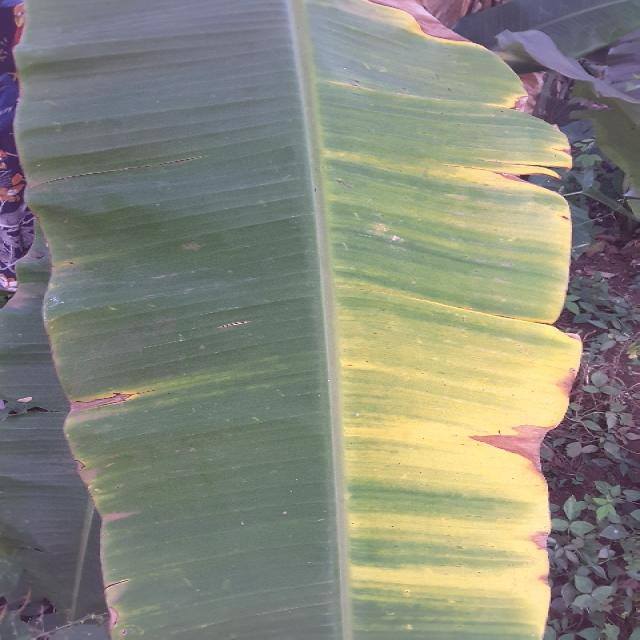Cordana: (298, 0, 597, 640), (23, 370, 186, 453)
